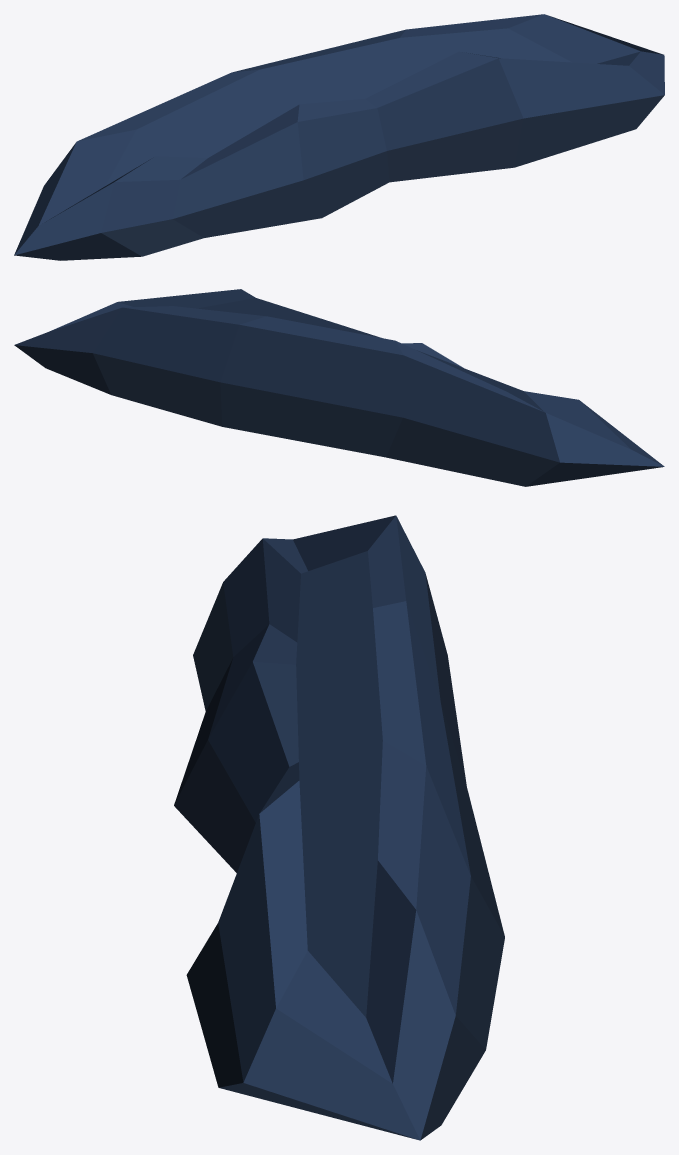
Rendered from skyline-ridge.glb.
3 renders of one model, top to bottom at view 1: azimuth 30°, elevation 25°; view 2: azimuth 150°, elevation 25°; view 3: azimuth 270°, elevation 25°, orthographic. The views are drawn at different scales.
Visible parts, largest first — view 1: skyline-ridge; view 2: skyline-ridge; view 3: skyline-ridge.
Boxes of the visible parts, bbox=[...] form: skyline-ridge: bbox=[14, 14, 664, 260]; skyline-ridge: bbox=[14, 289, 664, 486]; skyline-ridge: bbox=[174, 515, 504, 1140].
Bounding box in the file's own units: 28 × 4.2 × 6.55.
